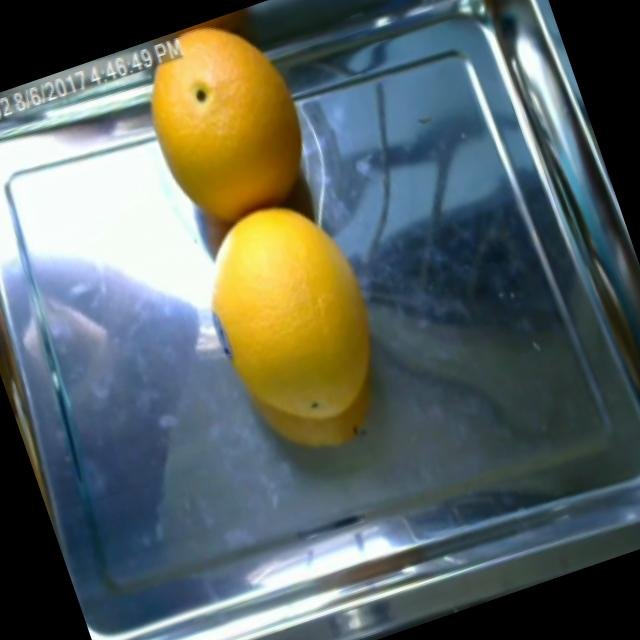Fruit: (165, 160, 412, 417), (200, 260, 407, 483)
